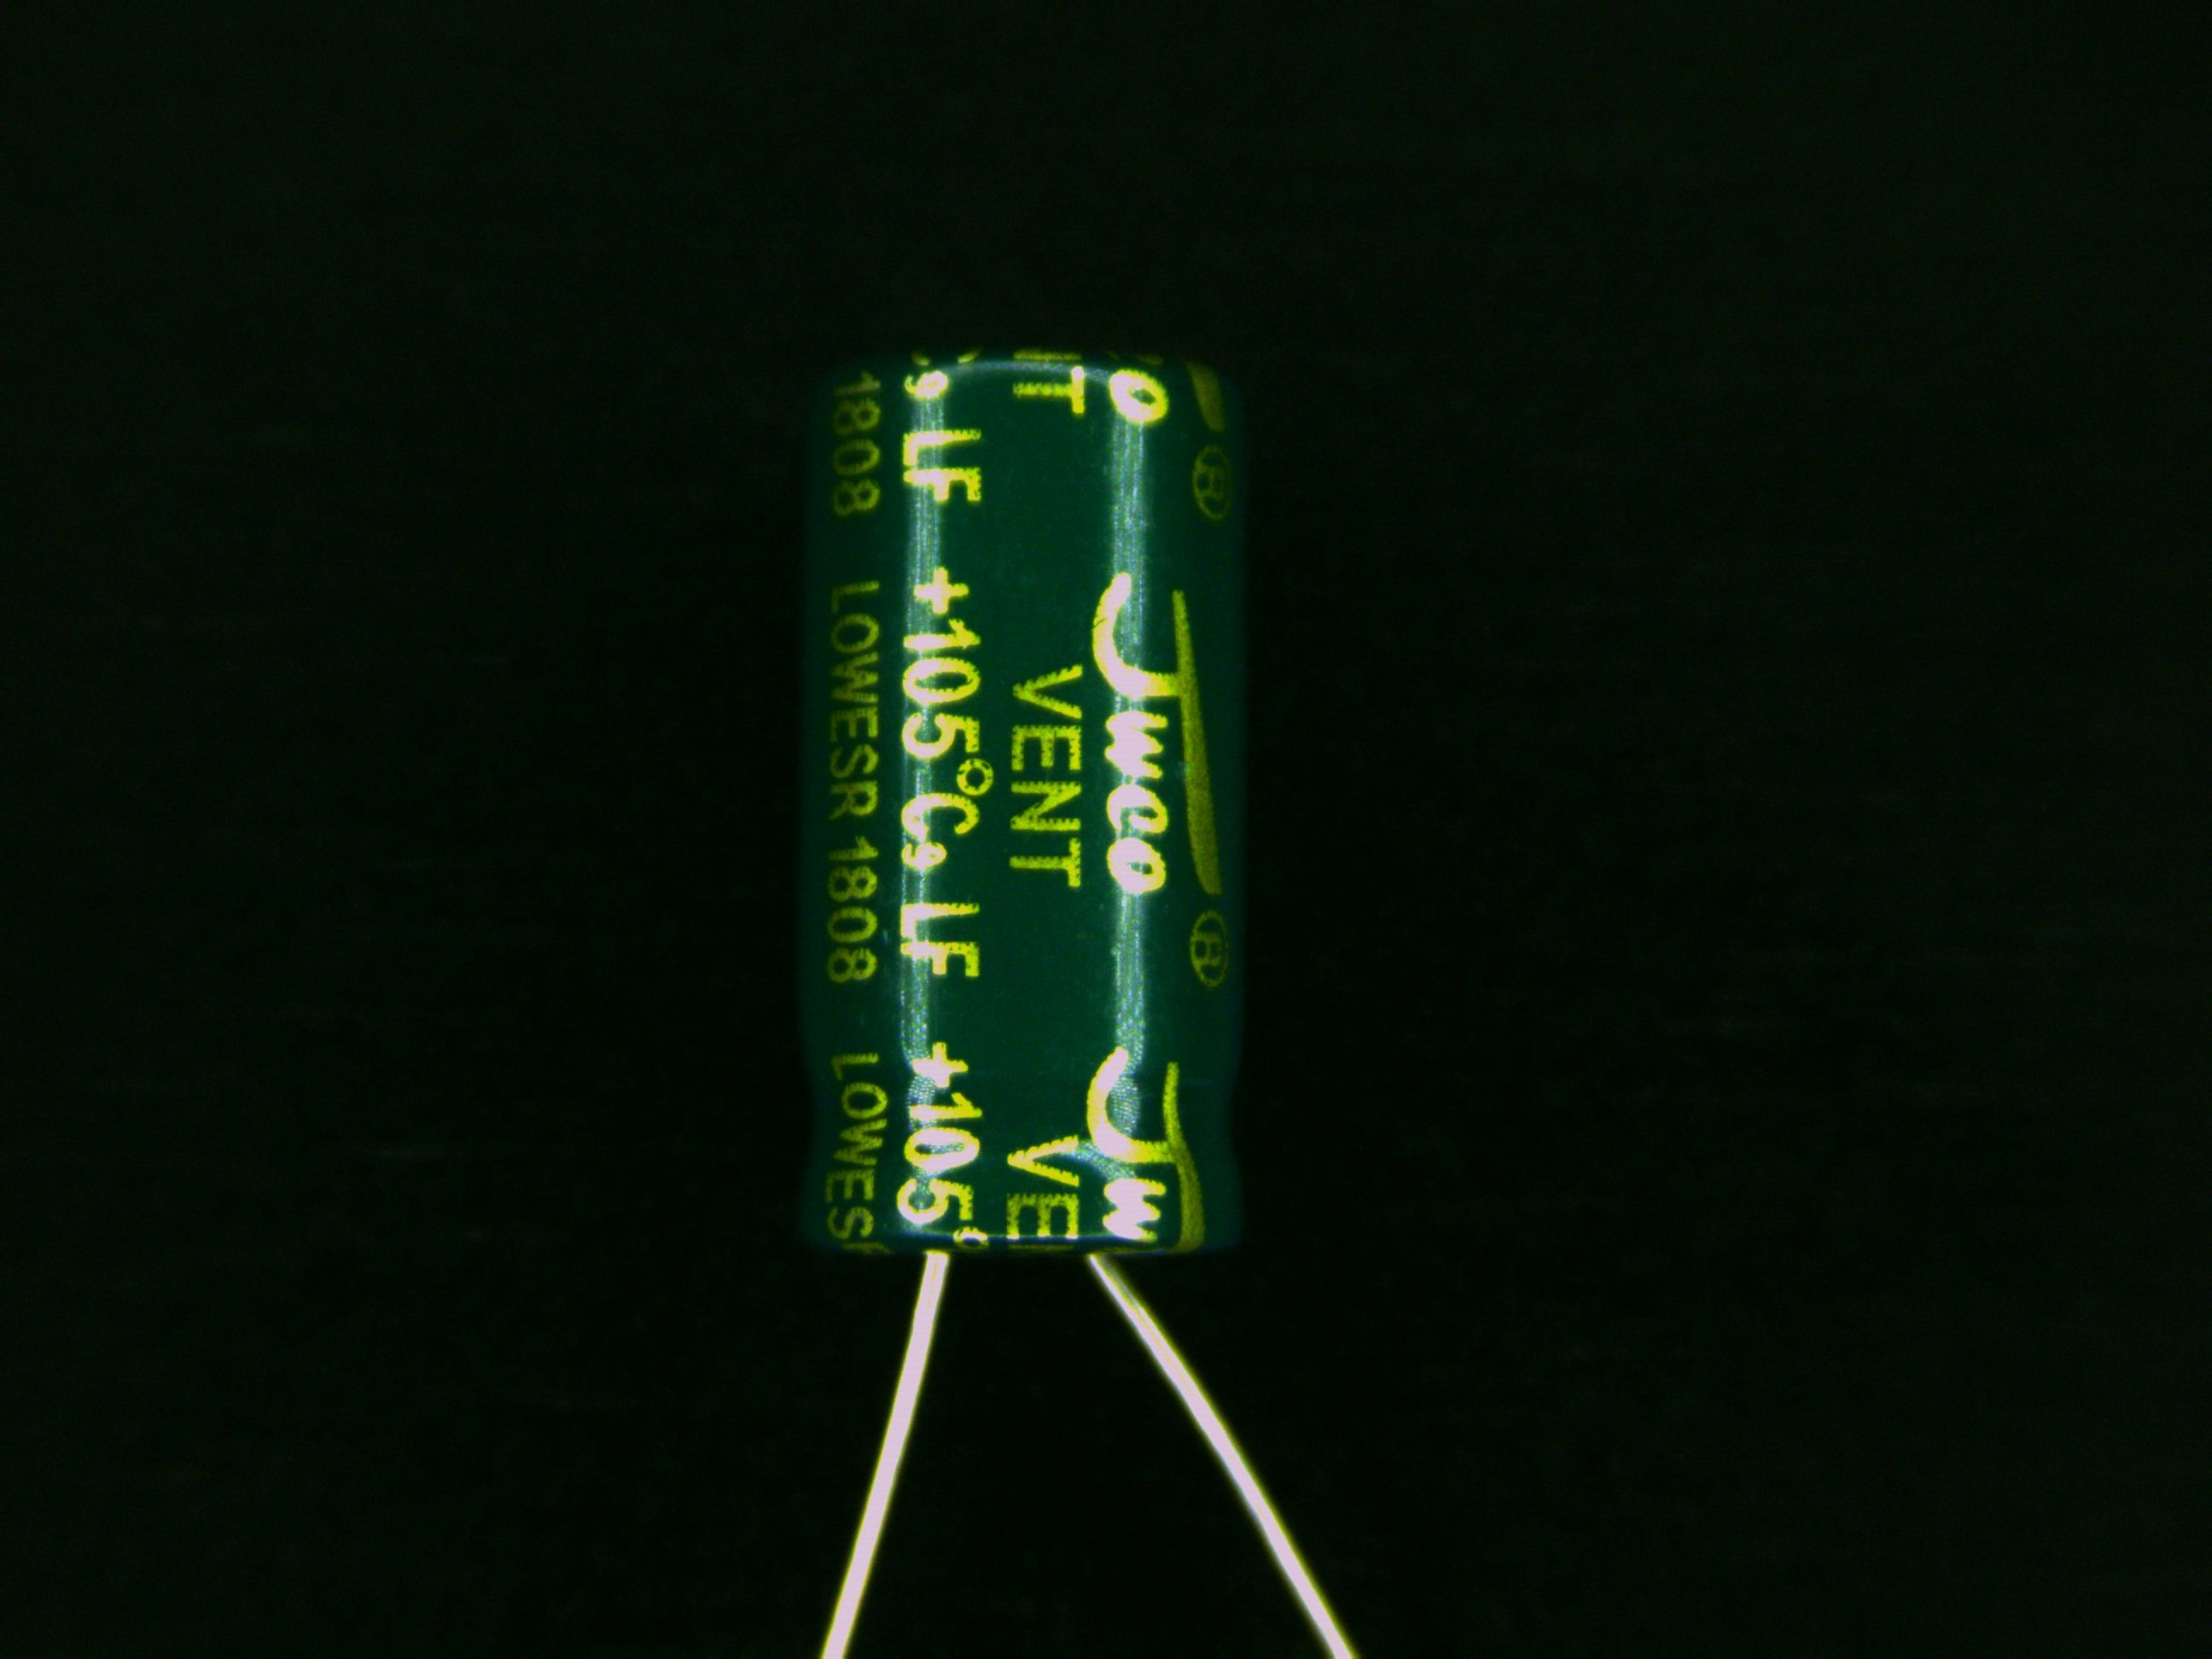c1: (796, 343, 1254, 1466)
